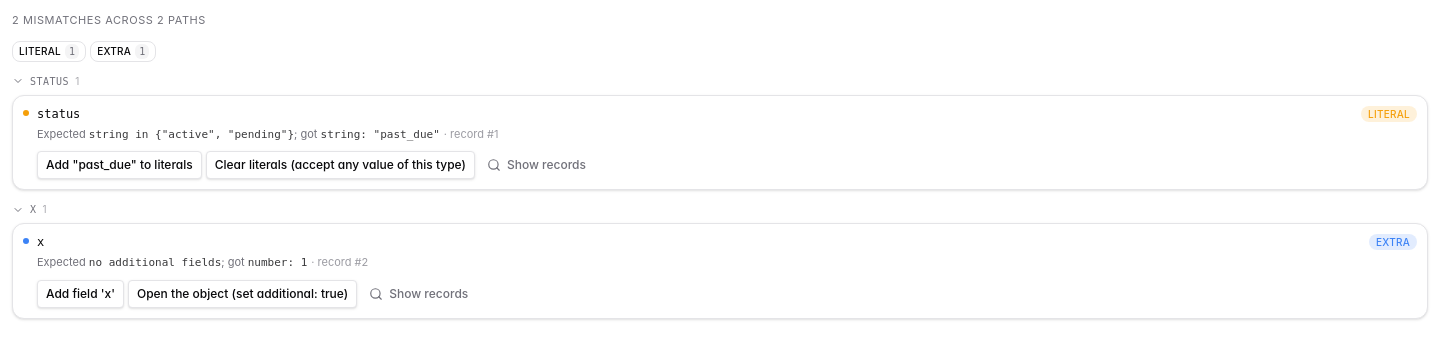
Test: MismatchPanel › W5-MP4: clicking a kind chip filters entries to that kind
The width and height of the screenshot is (1440, 337).
Check: the button "literal 1" is shown, box [12,40,86,62]
Click the EXTRA chip.
Click the button "extra 1" at x=123, y=51, box [90,40,156,62]
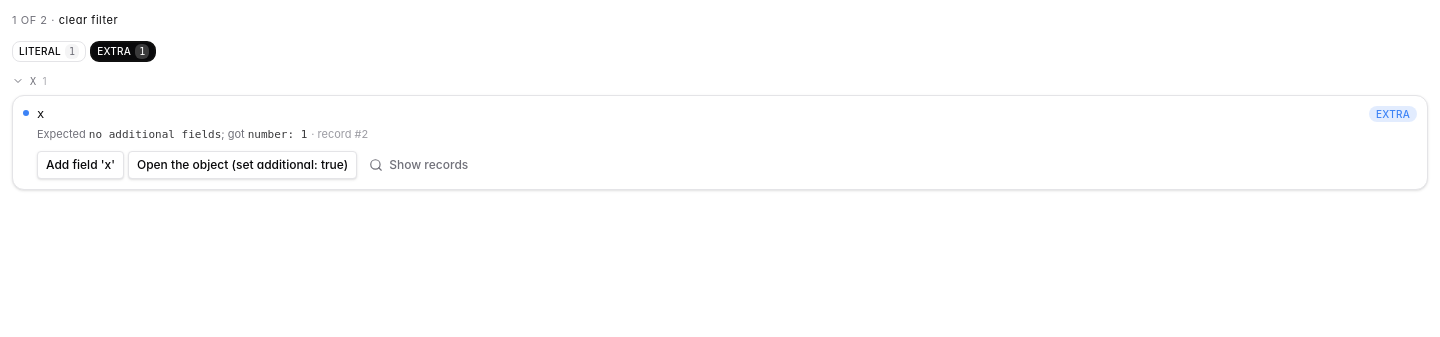
Check: the button "Add \"past_due\" to literals" is gone
Check: the text "1 of 2 · clear filter" is shown, box [12,12,118,28]
'clear filter' restores everything.
Click the button "clear filter" at x=88, y=20, box [59,12,118,28]
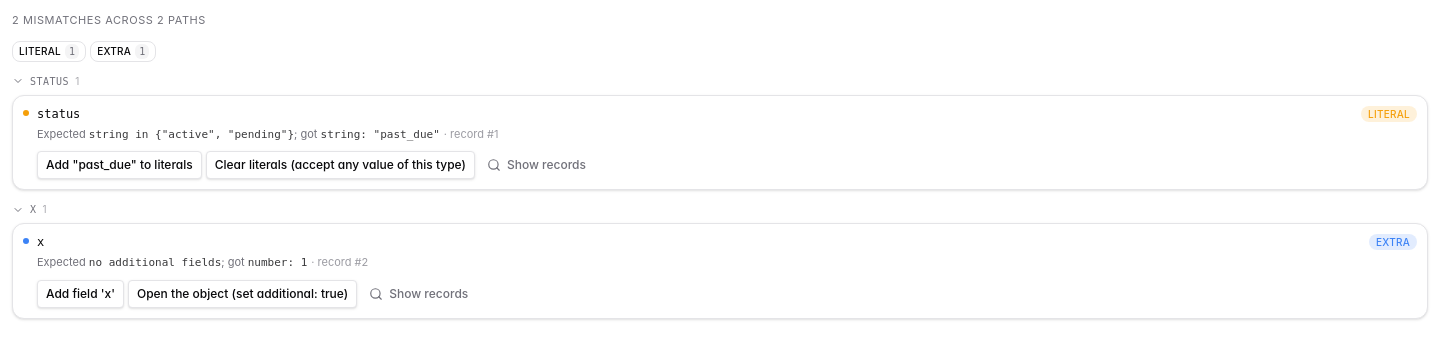
Check: the button "clear filter" is gone
